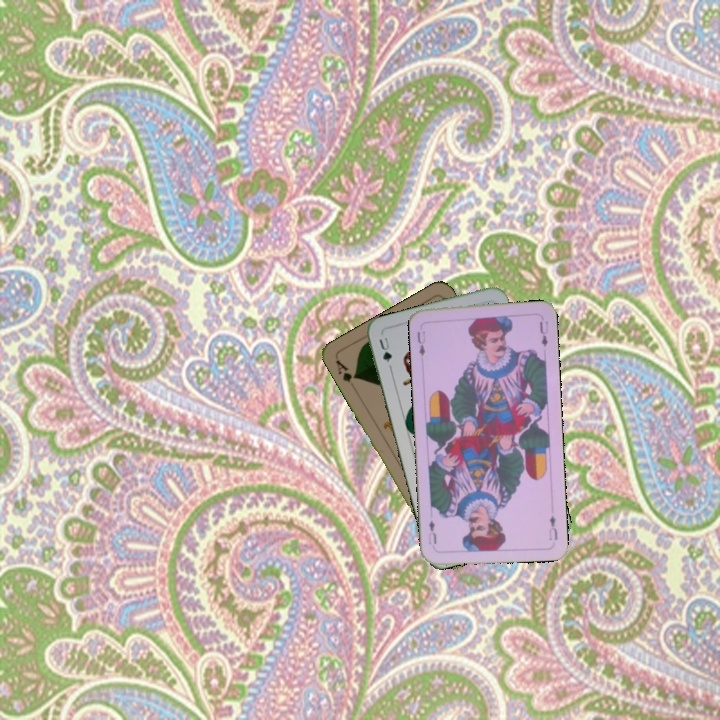EU: (413, 327, 428, 359), (545, 511, 560, 542)
GA: (331, 355, 359, 385)
GU: (375, 332, 394, 365)
